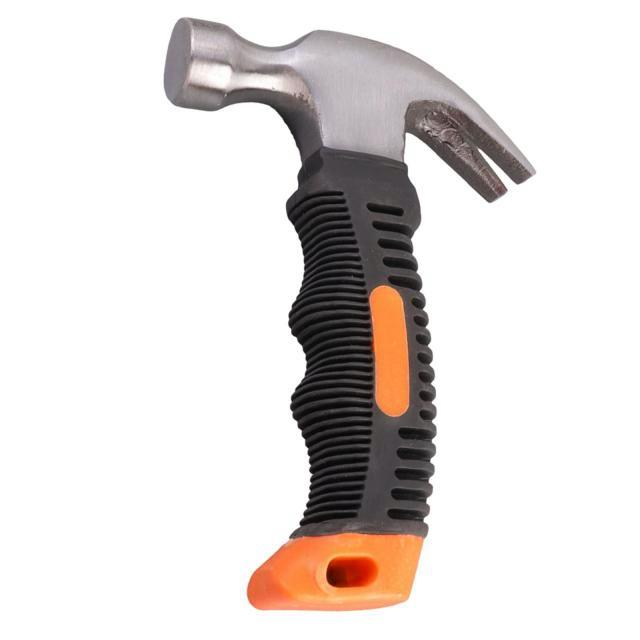hammer: (160, 11, 542, 618)
